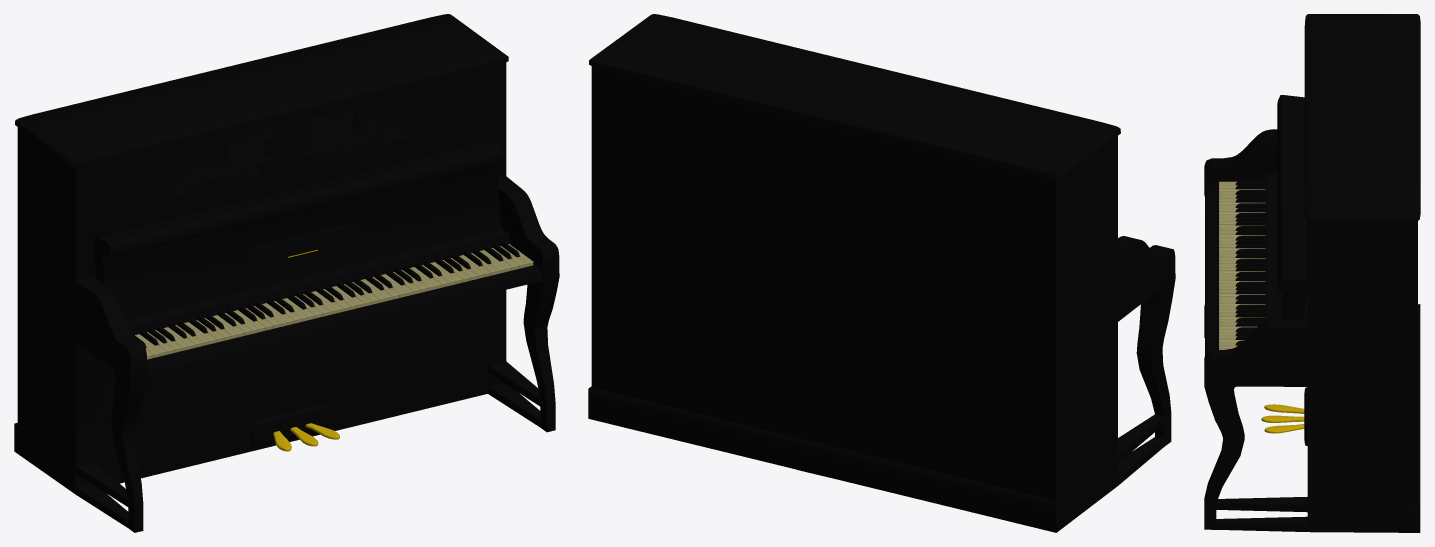
Rendered from piano.fbx.
3 views of the same model, side by side, from view 1: azimuth 30°, elevation 25°; view 2: azimuth 150°, elevation 25°; view 3: azimuth 270°, elevation 25° (orthographic). The views are drawn at different scales.
Parts seen in each view (by area): view 1: Куб.003 (×4); view 2: Куб.003; view 3: Куб.003 (×3).
Part boxes in pixels (<box>): Куб.003 (×4): <box>14,14,559,532</box>; Куб.003: <box>588,14,1175,532</box>; Куб.003 (×3): <box>1204,14,1420,532</box>.
Size of the model in its own units: 2 by 1.46 by 0.9019.
